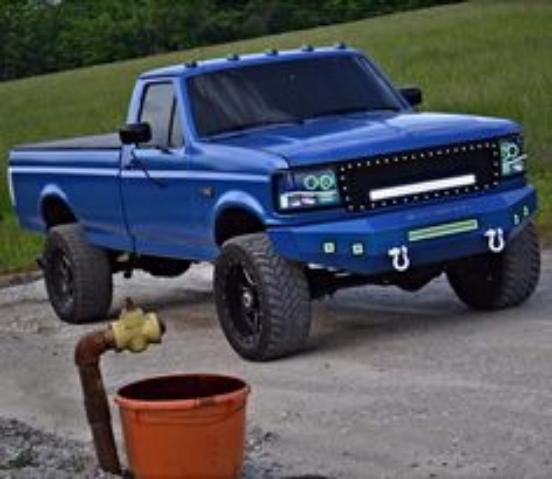pickup-truck: (5, 44, 543, 363)
